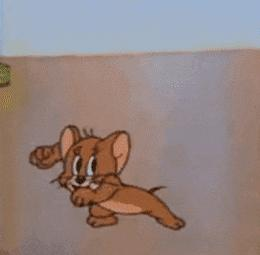jerry: (28, 124, 186, 232)
